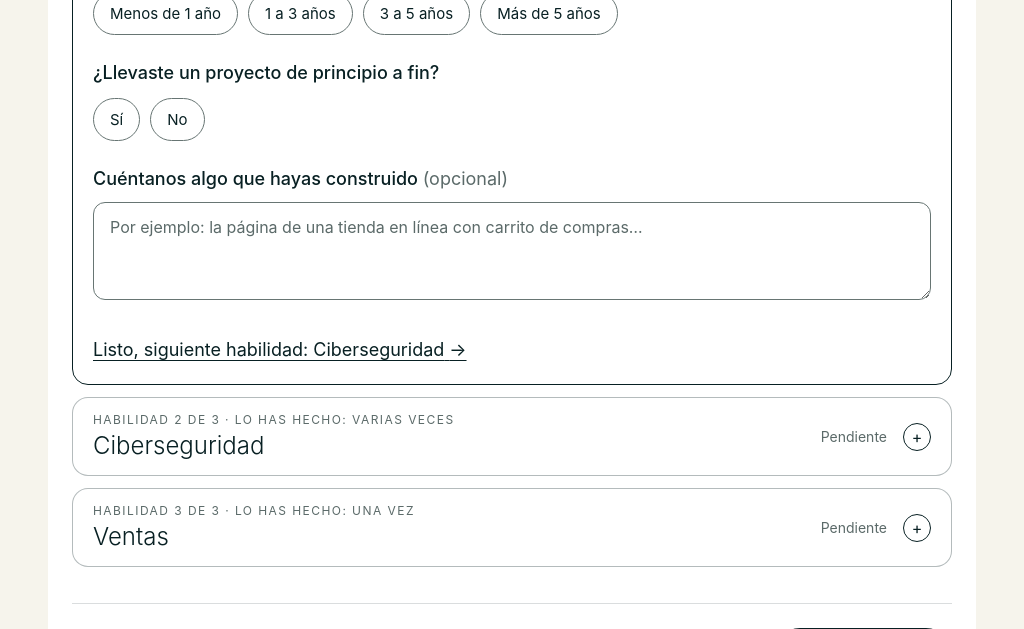
Test case: ProfundizarView › cada pregunta nombra su habilidad; las habilidades con preguntas propias las usan
(page scrolled)
What coordinates should you click on to do the following:
click the button that starts with "Habilidad 2 de 3"
I would click on:
 (157, 420)
Its box is left=73, top=398, right=951, bottom=475.
(page scrolled)
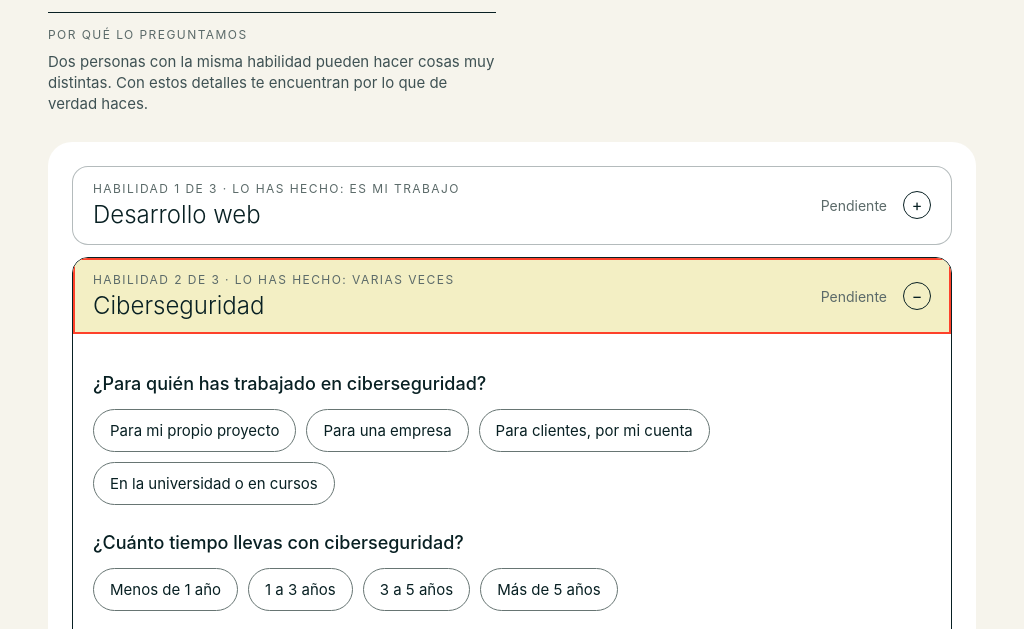
Now the text "¿Para quién has trabajado en ciberseguridad?" is shown, box left=93, top=370, right=486, bottom=399
